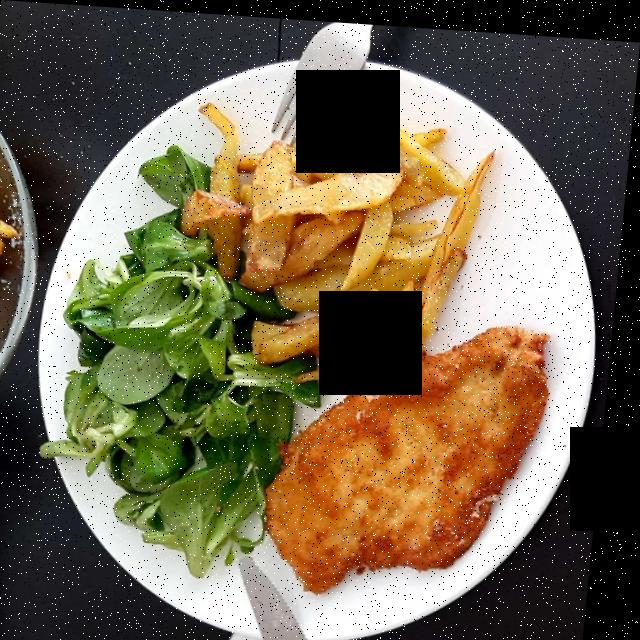chicken-breast: (278, 326, 549, 582)
country-fries: (186, 102, 488, 369)
salad-lambs-ear: (59, 155, 307, 559)
